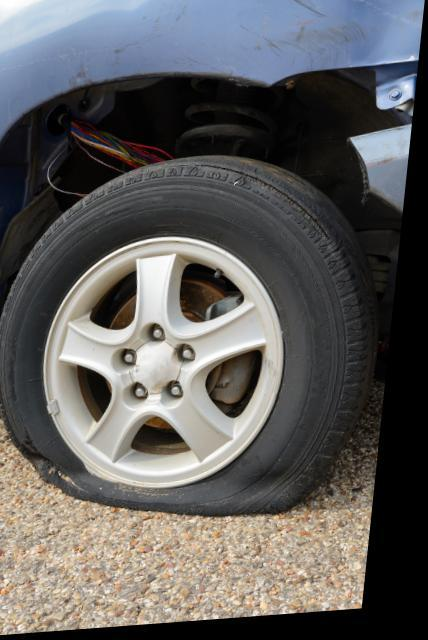dent: (337, 0, 426, 76)
scratch: (208, 0, 340, 76)
tire flat: (1, 158, 384, 522)
